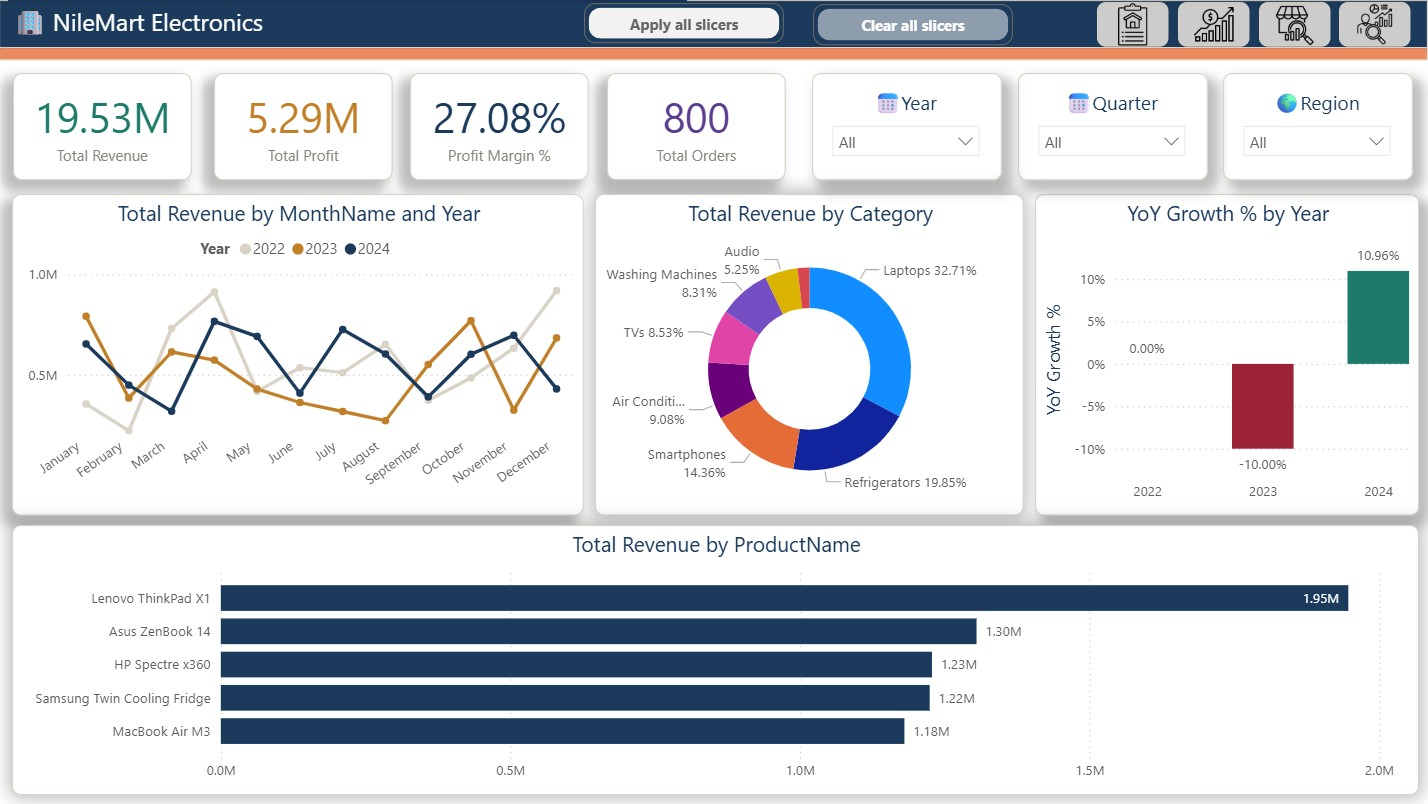

The page's visual inventory and layout, read from the dashboard file:
{"tool":"powerbi","page":{"name":"EXECUTIVE SUMMARY","canvas":[1280,720],"ordinal":0},"visuals":[{"type":"shape","box":[0,0,1279.7,46.6],"z":0},{"type":"textbox","box":[8,0,608,40],"z":1000},{"type":"card","fields":{"Values":["_Measure.Total Revenue"]},"box":[12.1,65.5,160,96],"z":2000},{"type":"card","fields":{"Values":["_Measure.Total Profit"]},"box":[192.1,65.5,160,96],"z":3000},{"type":"card","fields":{"Values":["_Measure.Total Orders"]},"box":[544.1,65.5,160,96],"z":4000},{"type":"card","fields":{"Values":["_Measure.Profit Margin %"]},"box":[368.1,65.5,160,96],"z":5000},{"type":"shape","box":[912.1,65.5,170,96],"z":6000,"group":"g1"},{"type":"donutChart","fields":{"Category":["Products.Category"],"Y":["_Measure.Total Revenue"]},"box":[533.7,173.7,384.2,288.4],"z":6000},{"type":"shape","box":[728.1,65.5,170,96],"z":7000,"group":"g3"},{"type":"shape","box":[1096.1,65.5,170,96],"z":7000,"group":"g2"},{"type":"lineChart","fields":{"Category":["DateTable.MonthName"],"Y":["_Measure.Total Revenue"],"Series":["DateTable.Year"]},"box":[11.8,173.8,512,288],"z":7000},{"type":"slicer","title":"🌍Region","fields":{"Values":["Stores.Region"]},"box":[1104.1,79.5,152,72],"z":8000,"group":"g2"},{"type":"clusteredColumnChart","fields":{"Y":["_Measure.YoY Growth %"],"Category":["DateTable.Year","DateTable.MonthName"]},"box":[927.8,173.8,344,288],"z":8000},{"type":"group","id":"g1","title":"Group 2","box":[912.1,65.5,170,96],"z":9000},{"type":"slicer","title":"📅Quarter","fields":{"Values":["DateTable.Quarter"]},"box":[920.1,79.5,152,72],"z":9000,"group":"g1"},{"type":"group","id":"g2","title":"Group 3","box":[1096.1,65.5,170,96],"z":10000},{"type":"slicer","title":"📅Year","fields":{"Values":["DateTable.Year"]},"box":[736.1,79.5,152,72],"z":11000,"group":"g3"},{"type":"clusteredBarChart","fields":{"Category":["Products.ProductName"],"Y":["_Measure.Total Revenue"]},"box":[11.6,470.1,1260,241.8],"z":11000},{"type":"shape","box":[0,42.1,1279.7,12],"z":12000},{"type":"group","id":"g3","title":"Group 1","box":[728.1,65.5,170,96],"z":13000},{"type":"image","box":[1128,2,64,40],"z":14000},{"type":"image","box":[1200,2,64,40],"z":15000},{"type":"image","box":[1056,2,64,40],"z":16000},{"type":"image","box":[983.3,2,64.5,40.3],"z":17000},{"type":"actionButton","box":[729,3.6,179.1,36.7],"z":18000},{"type":"actionButton","box":[523.9,3,179.1,36],"z":19000}]}

Visuals, with their boxes in screenshot pixels (x1, y1, x2, y2), scaled from the page's 1280x720 canvas onto the 1428x804 screenshot:
shape: x1=0, y1=0, x2=1427, y2=52
textbox: x1=9, y1=0, x2=687, y2=45
card - _Measure.Total Revenue: x1=13, y1=73, x2=192, y2=180
card - _Measure.Total Profit: x1=214, y1=73, x2=393, y2=180
card - _Measure.Total Orders: x1=607, y1=73, x2=786, y2=180
card - _Measure.Profit Margin %: x1=411, y1=73, x2=589, y2=180
shape: x1=1018, y1=73, x2=1207, y2=180
donutChart - Products.Category x _Measure.Total Revenue: x1=595, y1=194, x2=1024, y2=516
shape: x1=812, y1=73, x2=1002, y2=180
shape: x1=1223, y1=73, x2=1412, y2=180
lineChart - DateTable.MonthName x _Measure.Total Revenue: x1=13, y1=194, x2=584, y2=516
"🌍Region" slicer: x1=1232, y1=89, x2=1401, y2=169
clusteredColumnChart - _Measure.YoY Growth % x DateTable.Year: x1=1035, y1=194, x2=1419, y2=516
"Group 2" group: x1=1018, y1=73, x2=1207, y2=180
"📅Quarter" slicer: x1=1026, y1=89, x2=1196, y2=169
"Group 3" group: x1=1223, y1=73, x2=1412, y2=180
"📅Year" slicer: x1=821, y1=89, x2=991, y2=169
clusteredBarChart - Products.ProductName x _Measure.Total Revenue: x1=13, y1=525, x2=1419, y2=795
shape: x1=0, y1=47, x2=1427, y2=60
"Group 1" group: x1=812, y1=73, x2=1002, y2=180
image: x1=1258, y1=2, x2=1330, y2=47
image: x1=1339, y1=2, x2=1410, y2=47
image: x1=1178, y1=2, x2=1250, y2=47
image: x1=1097, y1=2, x2=1169, y2=47
actionButton: x1=813, y1=4, x2=1013, y2=45
actionButton: x1=584, y1=3, x2=784, y2=44
